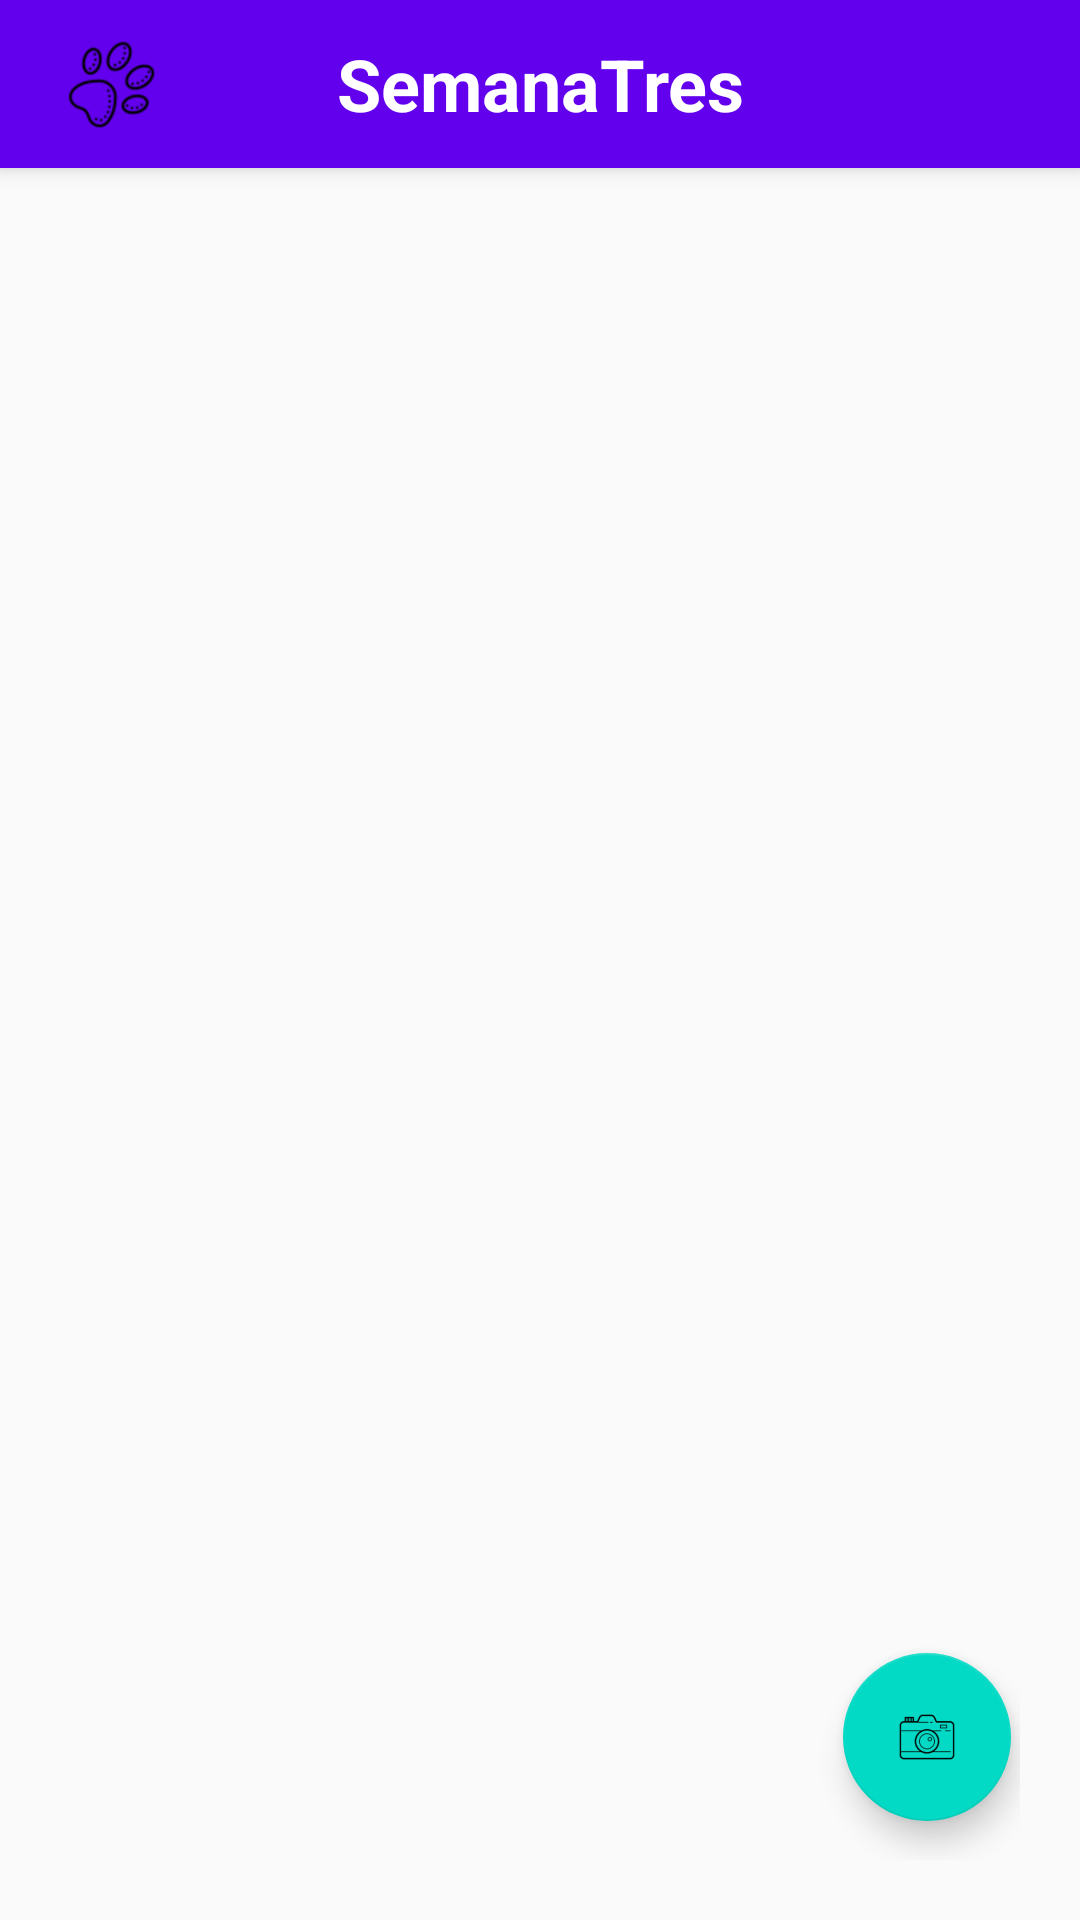

Icon click points for this 1080 × 1920 phone screenshot, format (x=x, y=y):
camara: (x=927, y=1737)
huella: (x=111, y=84)
